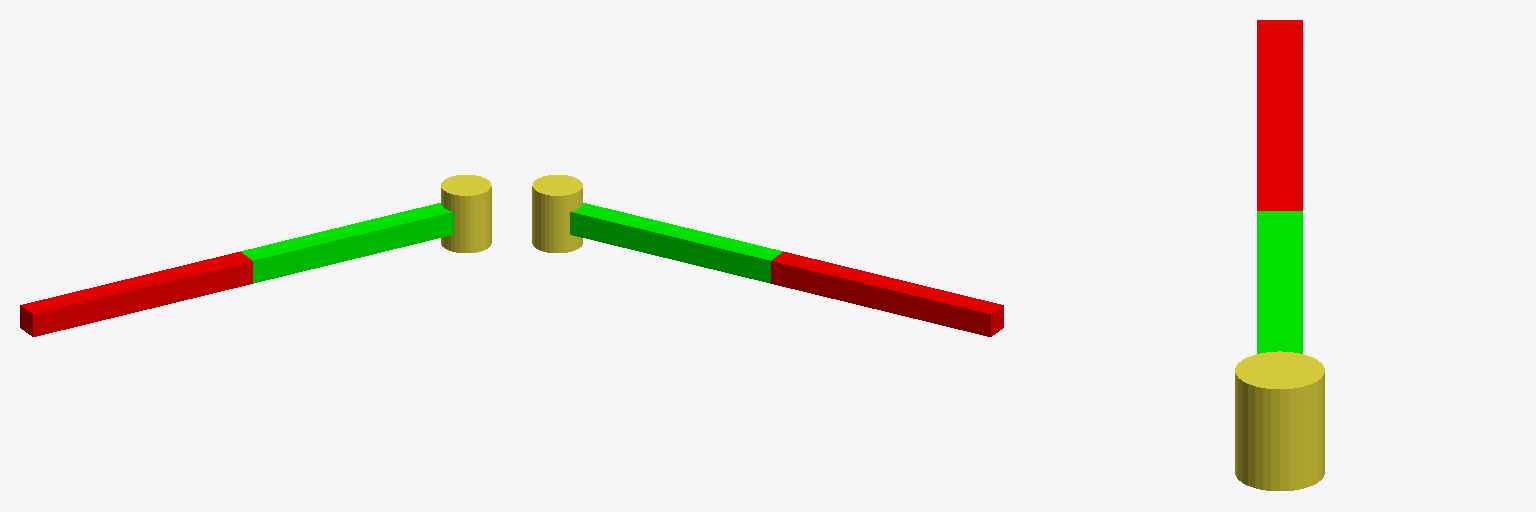
URDF robot description (planar2):
<?xml version="1.0"?>
<robot name="planar2">

<material name="red">
	<color rgba="1 0 0 0.8" />
</material>
<material name="green">
	<color rgba="0 1 0 0.8" />
</material>

<link name="base_link" />


<link name="link1">
	<visual>
	<geometry>
		<box size = "2 0.2 0.2"/>  
	</geometry>
	<origin xyz="1 0 0" />
	<material name="red" />
	</visual>
</link>


<link name="link2">
	<visual>
	<geometry>
		<box size="2 0.2 0.2" />
	</geometry>
	<origin xyz="2 0 0" />
	<material name="green" />
	</visual>
</link>

<link name="end">
	<visual>
	<geometry>
		<cylinder radius = "0.2" length="0.5" />
	</geometry>
	</visual>
</link>

<joint name="q1" type="continuous">
	<parent link="base_link" />
	<child link="link1" />
	<axis xyz="0 0 1" />
</joint>

<joint name="q2" type="continuous">
	<parent link="link1" />
	<child link="link2" />
	<origin xyz="1 0 0" />
	<axis xyz="0 0 1" />
</joint>

<joint name="notajoint" type="fixed">
	<parent link="link2" />
	<child link="end" />
	<origin xyz="3 0 0" />
</joint>

</robot>

--- What the picture shows (computed from the rendered views, not written in the file) ---
The picture shows the robot from 3 angles, left to right: view 1: azimuth 30°, elevation 25°; view 2: azimuth 150°, elevation 25°; view 3: azimuth 270°, elevation 25°; orthographic projection.
Robot: planar2 — 4 links, 3 joints (2 continuous, 1 fixed); root link base_link; default pose: every joint at zero.
Visible links, largest first — view 1: link1, link2, end; view 2: link1, link2, end; view 3: end, link1, link2.
Link boxes in pixels (x1,y1,x2,y2): link1: (20,252,252,336); link2: (240,203,453,283); end: (441,175,491,252); link1: (771,252,1003,336); link2: (570,203,783,283); end: (532,175,582,252); end: (1235,351,1324,490); link1: (1257,20,1302,210); link2: (1257,211,1302,353).
Bounding box of the posed robot: 4.2 × 0.4 × 0.5 m (x, y, z).
Geometry: primitives only (box / cylinder / sphere), no mesh files.